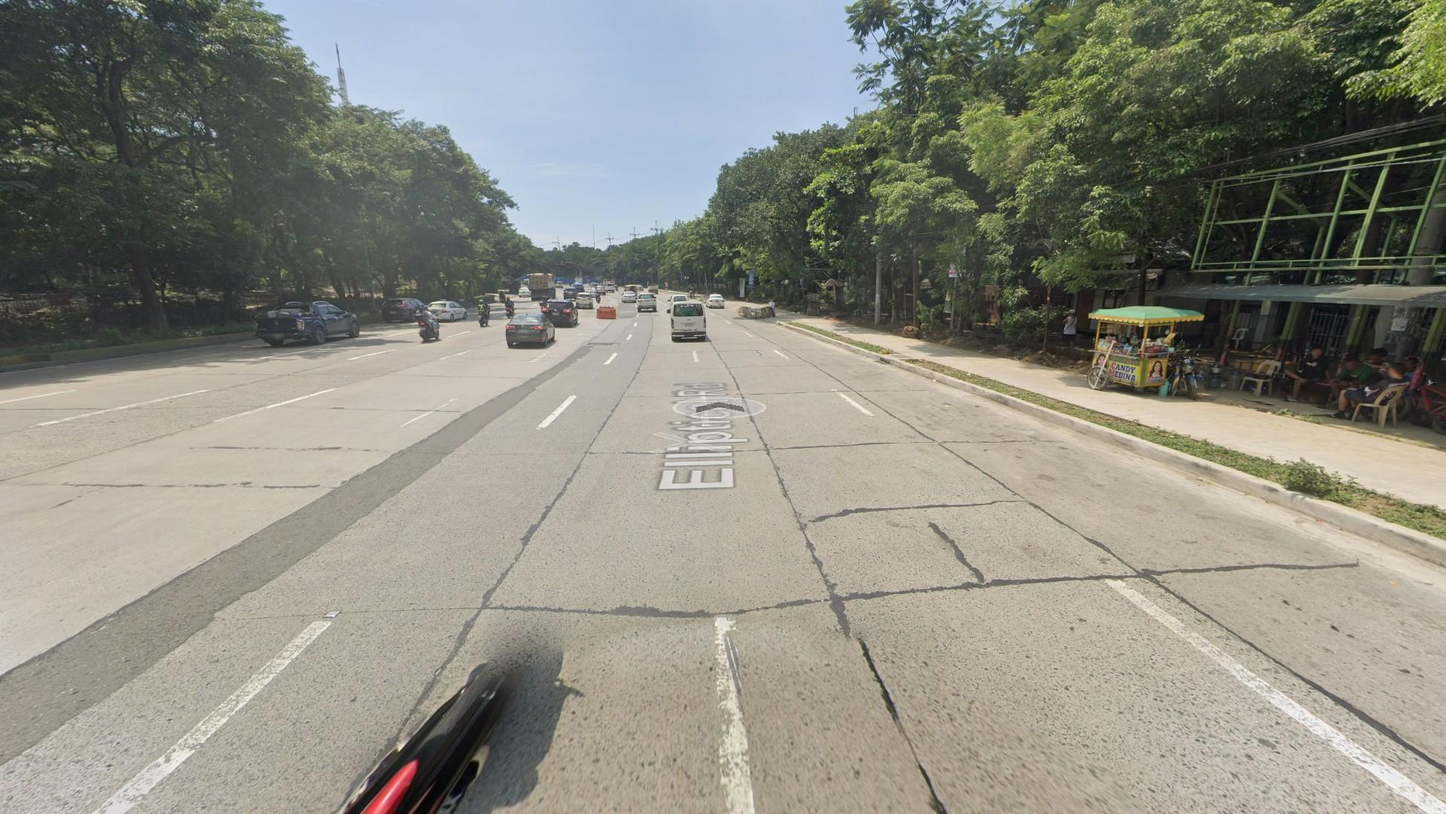pedestrian: (1333, 361, 1410, 421), (1323, 355, 1372, 417), (1283, 344, 1331, 403), (1380, 355, 1421, 419), (1354, 348, 1388, 407), (1058, 307, 1078, 351), (768, 298, 775, 317)
